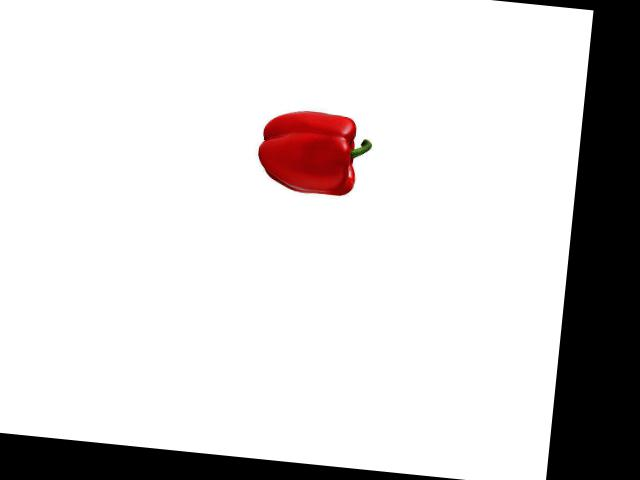bell_pepper: (251, 101, 374, 204)
